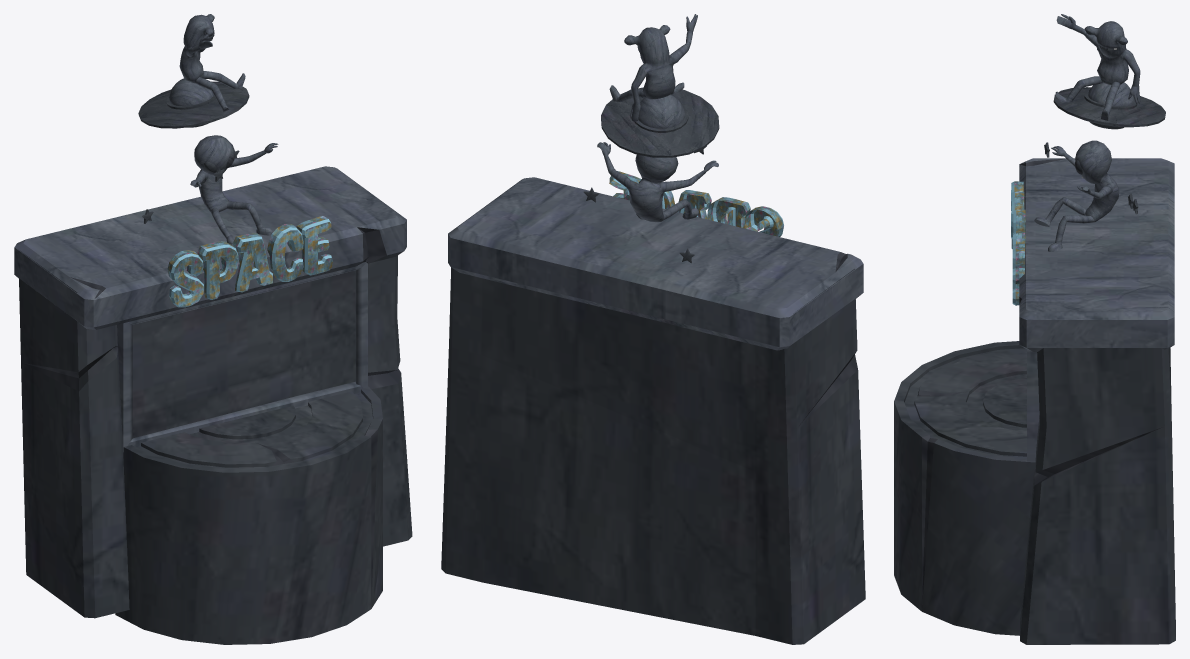
The model's file is stand-space01.glb.
3 views of the same model, side by side, from view 1: azimuth 30°, elevation 25°; view 2: azimuth 150°, elevation 25°; view 3: azimuth 270°, elevation 25° (orthographic). The views are drawn at different scales.
Parts seen in each view (by area): view 1: StandSpace01; view 2: StandSpace01; view 3: StandSpace01.
Part boxes in pixels (x1=…): StandSpace01: x1=14, y1=14, x2=412, y2=644; StandSpace01: x1=441, y1=14, x2=865, y2=644; StandSpace01: x1=894, y1=14, x2=1175, y2=644.
Size of what is drawn, in the model's own units: 11.13 by 17.57 by 8.14.
Materials: 1 (1 with a texture image).
